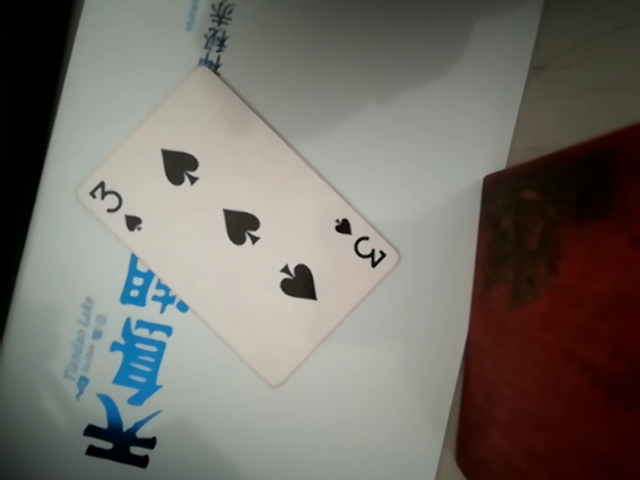ht 3: (80, 70, 398, 379)
